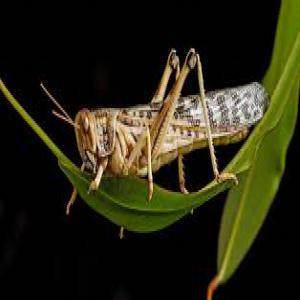locust: (52, 48, 273, 184)
